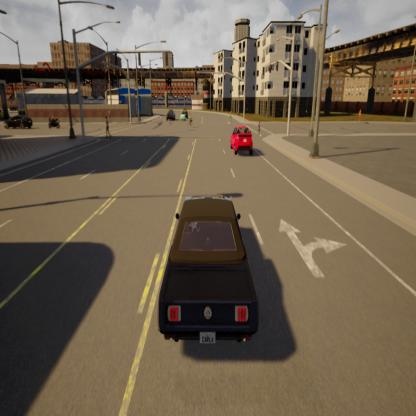Cars: (151, 182, 266, 354), (228, 122, 260, 162)
Pedestrian: (100, 114, 118, 145)
